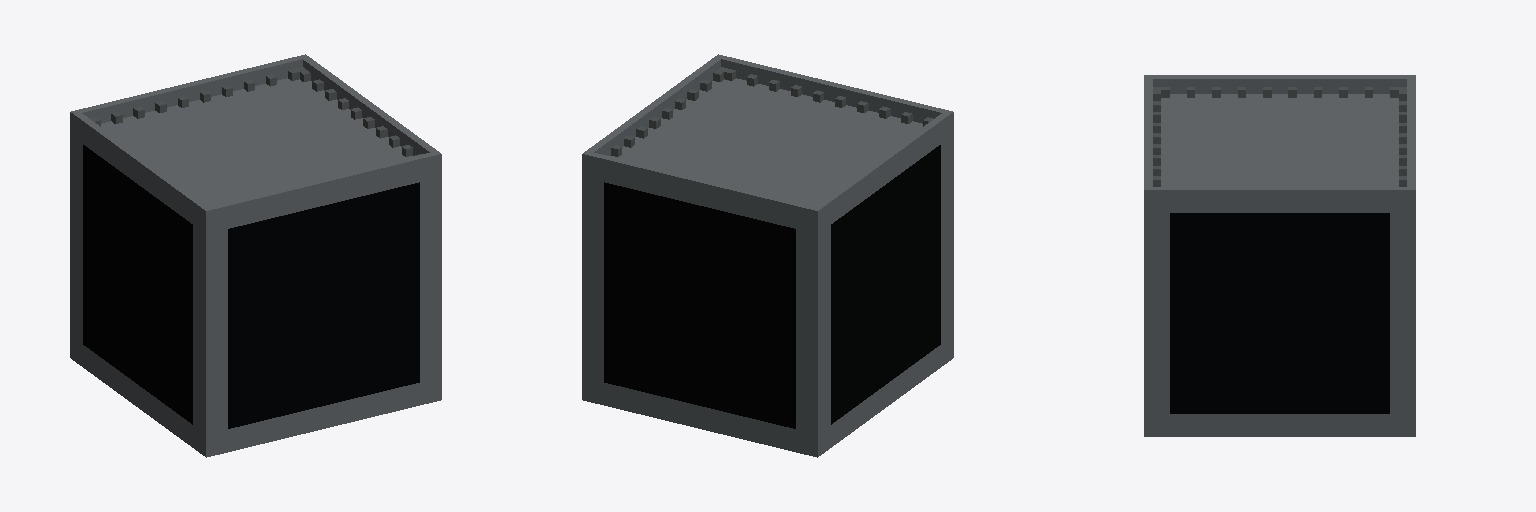
3 views of the same model, side by side, from view 1: azimuth 30°, elevation 25°; view 2: azimuth 150°, elevation 25°; view 3: azimuth 270°, elevation 25° (orthographic).
Parts seen in each view (by area): view 1: object 1; view 2: object 1; view 3: object 1.
Part boxes in pixels (bbox=[...]): object 1: bbox=[70, 54, 441, 457]; object 1: bbox=[582, 54, 953, 457]; object 1: bbox=[1144, 75, 1415, 436].
Bounding box in the file's own units: 3.2 × 3.2 × 3.2.
Materials: 1 (1 with a texture image).